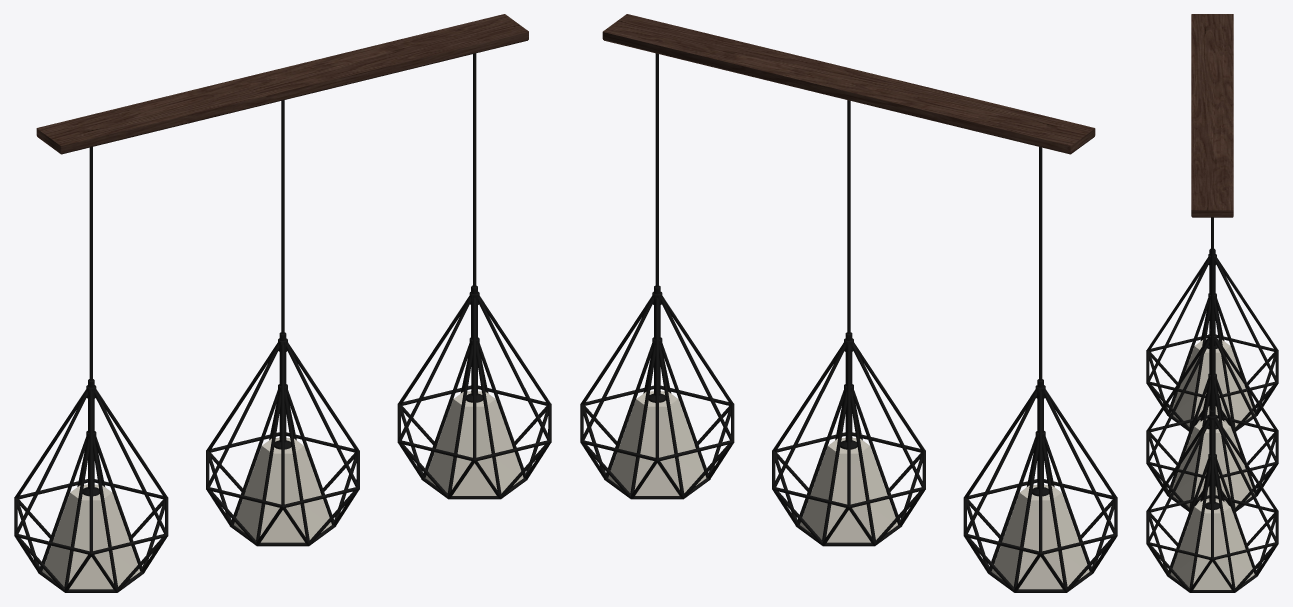
The model's file is industrial_diamond_pendant_light.glb.
3 views of the same model, side by side, from view 1: azimuth 30°, elevation 25°; view 2: azimuth 150°, elevation 25°; view 3: azimuth 270°, elevation 25° (orthographic). The views are drawn at different scales.
Visible parts, largest first — view 1: black_metal_black1_0, white_white1_0, wood_wood1_0; view 2: black_metal_black1_0, white_white1_0, wood_wood1_0; view 3: black_metal_black1_0, white_white1_0, wood_wood1_0.
Boxes of the visible parts, x1,y1,x2,y2 form: black_metal_black1_0: [14, 53, 551, 592]; white_white1_0: [42, 391, 523, 589]; wood_wood1_0: [36, 14, 528, 154]; black_metal_black1_0: [580, 53, 1117, 592]; white_white1_0: [608, 391, 1089, 589]; wood_wood1_0: [602, 14, 1095, 154]; black_metal_black1_0: [1146, 217, 1278, 592]; white_white1_0: [1170, 339, 1254, 589]; wood_wood1_0: [1191, 14, 1233, 217].
Bounding box in the file's own units: 1.26 × 1 × 0.3137.
4 materials, 2 textured.
